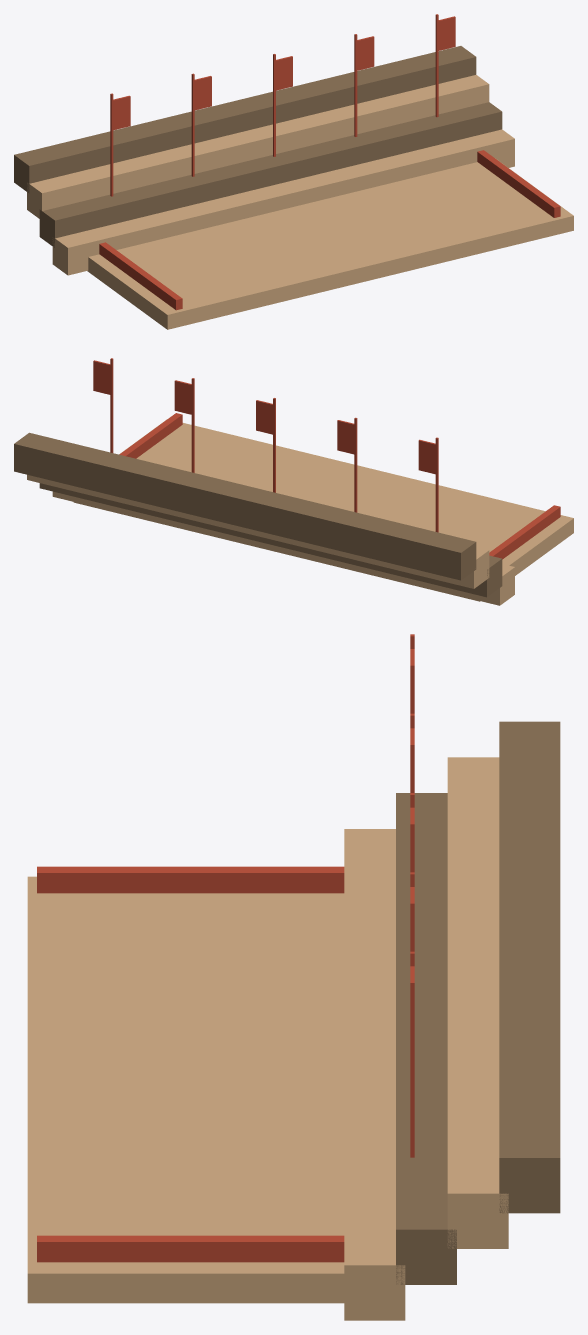
File: arena_athens_colosseum.glb
3 views of the same model, one above another, from view 1: azimuth 30°, elevation 25°; view 2: azimuth 150°, elevation 25°; view 3: azimuth 270°, elevation 25° (orthographic). The views are drawn at different scales.
Parts seen in each view (by area): view 1: FLOOR, TERRACE.003, TERRACE.001, TERRACE.002, TERRACE, BOUNDARY, BOUNDARY.001, BANNER.004, BANNER, BANNER.001, BANNER.003, BANNER.002; view 2: TERRACE.003, FLOOR, TERRACE.001, TERRACE.002, TERRACE, BOUNDARY, BOUNDARY.001, BANNER.004, BANNER.001, BANNER.003, BANNER, BANNER.002 (+3 smaller); view 3: FLOOR, TERRACE.003, TERRACE.002, TERRACE, TERRACE.001, BOUNDARY, BOUNDARY.001.
Part boxes in pixels (<box>): FLOOR: <box>87,158,573,329</box>; TERRACE.003: <box>14,46,476,193</box>; TERRACE.001: <box>39,102,502,247</box>; TERRACE.002: <box>27,75,489,218</box>; TERRACE: <box>52,129,514,275</box>; BOUNDARY: <box>99,242,182,310</box>; BOUNDARY.001: <box>477,150,560,217</box>; BANNER.004: <box>437,16,455,51</box>; BANNER: <box>112,95,130,130</box>; BANNER.001: <box>193,76,211,110</box>; BANNER.003: <box>356,36,374,70</box>; BANNER.002: <box>275,56,292,90</box>; TERRACE.003: <box>14,432,476,580</box>; FLOOR: <box>73,419,573,601</box>; TERRACE.001: <box>39,483,502,597</box>; TERRACE.002: <box>27,474,489,588</box>; TERRACE: <box>52,491,514,605</box>; BOUNDARY: <box>489,505,560,559</box>; BOUNDARY.001: <box>119,413,182,458</box>; BANNER.004: <box>93,360,111,395</box>; BANNER.001: <box>337,420,355,454</box>; BANNER.003: <box>174,380,192,414</box>; BANNER: <box>418,439,436,474</box>; BANNER.002: <box>256,400,274,434</box>; FLOOR: <box>27,876,344,1303</box>; TERRACE.003: <box>499,721,560,1213</box>; TERRACE.002: <box>447,757,508,1248</box>; TERRACE: <box>344,829,405,1320</box>; TERRACE.001: <box>396,793,456,1284</box>; BOUNDARY: <box>37,866,344,893</box>; BOUNDARY.001: <box>37,1235,344,1262</box>.
Size of the model in its own units: 11 by 3.65 by 5.67.
